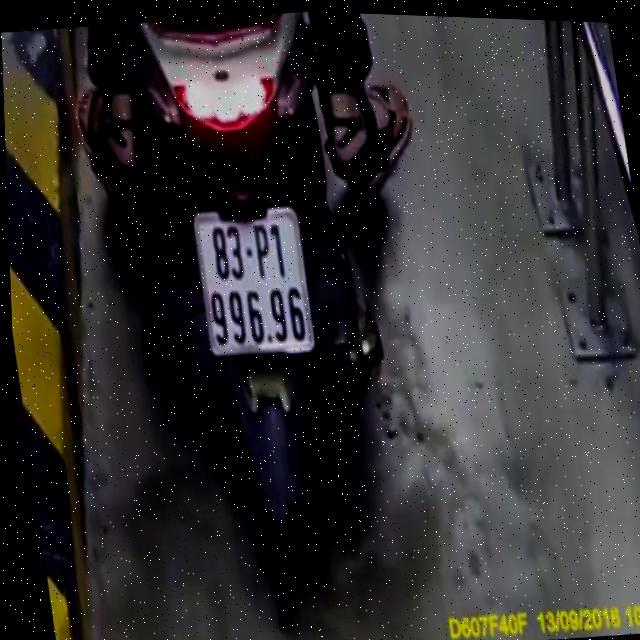motorcycle: (87, 3, 432, 600)
plate: (180, 192, 329, 370)
